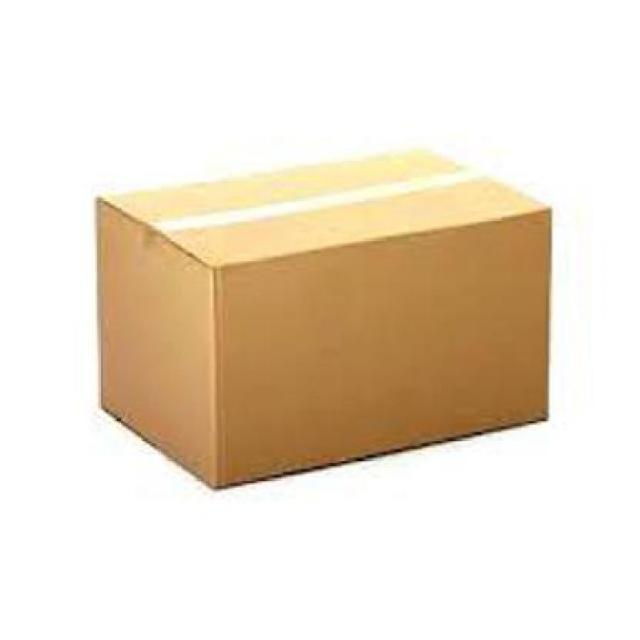box: (95, 147, 550, 489)
